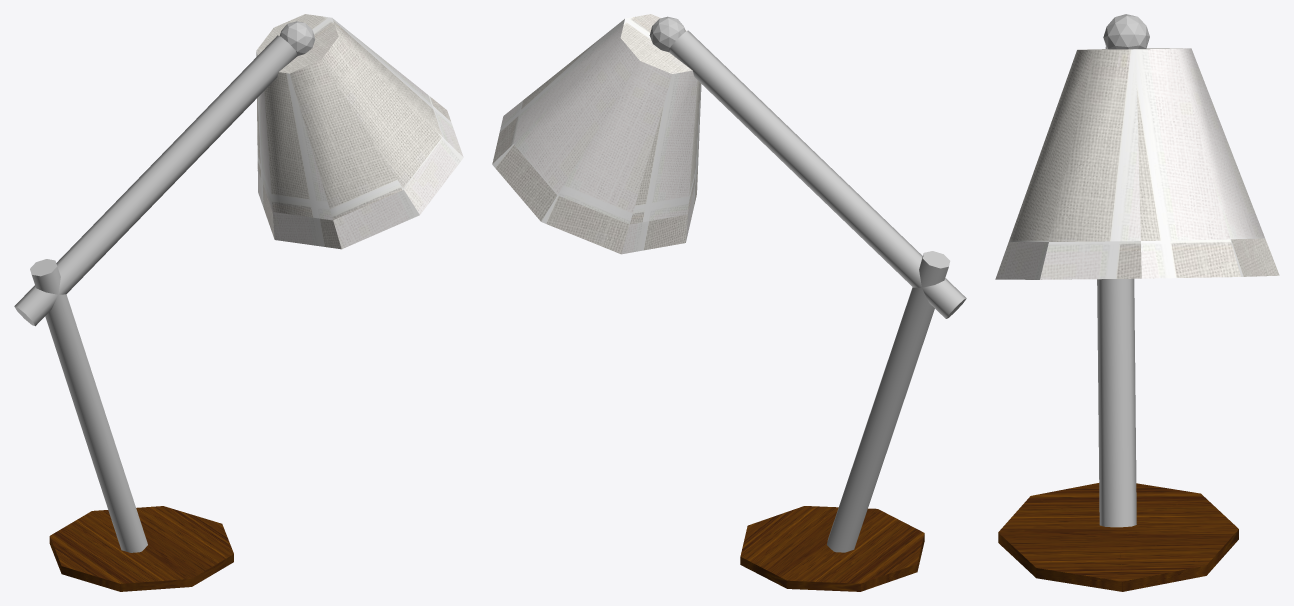
File: Lamp.obj
3 views of the same model, side by side, from view 1: azimuth 30°, elevation 25°; view 2: azimuth 150°, elevation 25°; view 3: azimuth 270°, elevation 25° (orthographic). The views are drawn at different scales.
Visible parts, largest first — view 1: Cylinder, Cylinder (2), Cylinder (1), Icosphere; view 2: Cylinder, Cylinder (2), Cylinder (1), Icosphere; view 3: Cylinder, Cylinder (2), Icosphere.
Part boxes in pixels (x1=…): Cylinder: x1=30, y1=14, x2=463, y2=552; Cylinder (2): x1=49, y1=506, x2=233, y2=591; Cylinder (1): x1=14, y1=35, x2=297, y2=326; Icosphere: x1=280, y1=21, x2=315, y2=55; Cylinder: x1=492, y1=14, x2=950, y2=552; Cylinder (2): x1=740, y1=506, x2=924, y2=591; Cylinder (1): x1=669, y1=30, x2=966, y2=318; Icosphere: x1=649, y1=16, x2=685, y2=52; Cylinder: x1=995, y1=48, x2=1279, y2=527; Cylinder (2): x1=998, y1=483, x2=1238, y2=591; Icosphere: x1=1103, y1=14, x2=1149, y2=49.
Size of the model in its own units: 1.05 by 1.11 by 0.4587.
